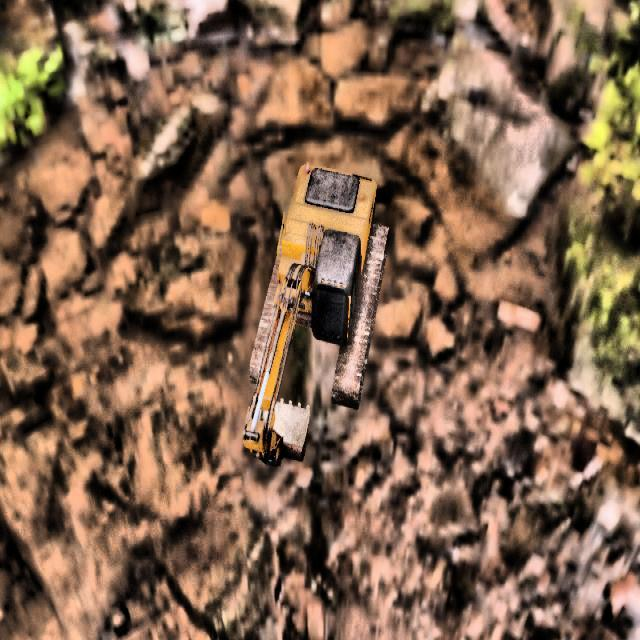excavator: (242, 161, 390, 467)
